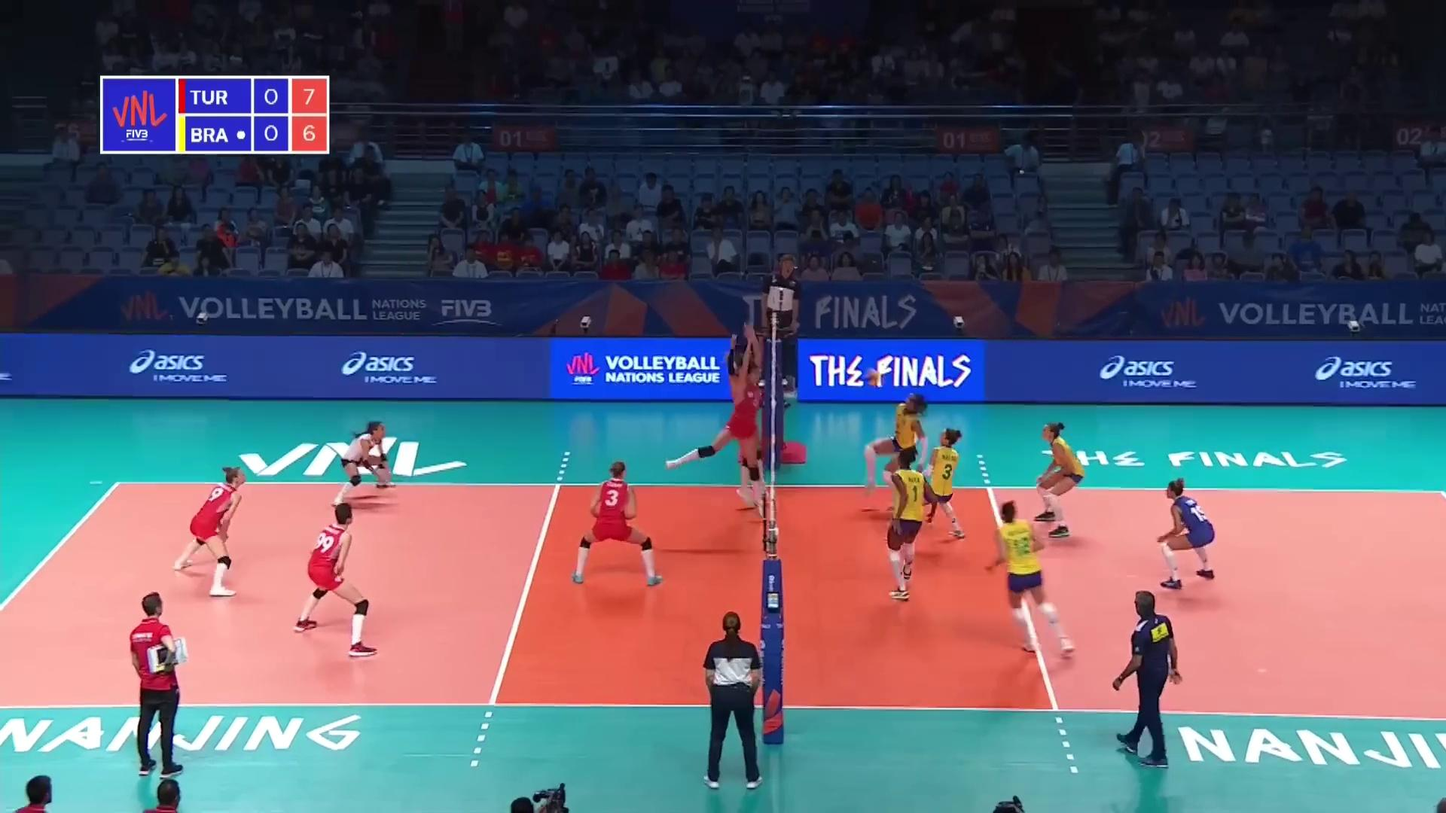player: (665, 345, 764, 501), (989, 501, 1074, 662), (297, 506, 381, 656), (573, 461, 663, 586), (176, 468, 246, 596), (863, 392, 929, 514), (883, 447, 934, 602), (900, 429, 966, 539), (1157, 480, 1222, 587), (728, 352, 767, 524), (1033, 423, 1084, 542), (337, 421, 399, 502)
refree: (705, 613, 768, 787), (763, 255, 800, 379)
